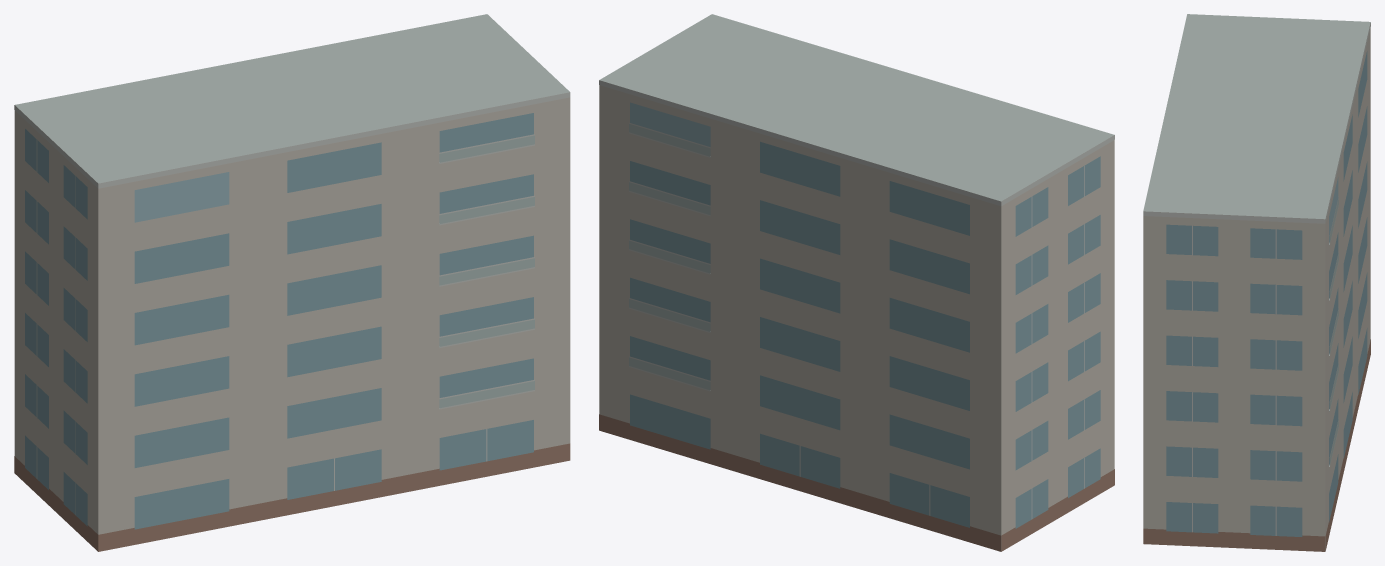
File: survey-upis-32603201.glb
The picture shows the model from 3 angles, left to right: view 1: azimuth 30°, elevation 25°; view 2: azimuth 150°, elevation 25°; view 3: azimuth 270°, elevation 25°; orthographic projection. The views are drawn at different scales.
Parts seen in each view (by area): view 1: survey-upis-32603201.tmp; view 2: survey-upis-32603201.tmp; view 3: survey-upis-32603201.tmp.
Boxes of the visible parts, bbox=[...] form: survey-upis-32603201.tmp: bbox=[14, 14, 570, 551]; survey-upis-32603201.tmp: bbox=[599, 14, 1114, 551]; survey-upis-32603201.tmp: bbox=[1143, 14, 1370, 551].
Bounding box in the file's own units: 23.16 × 17.5 × 10.86.
